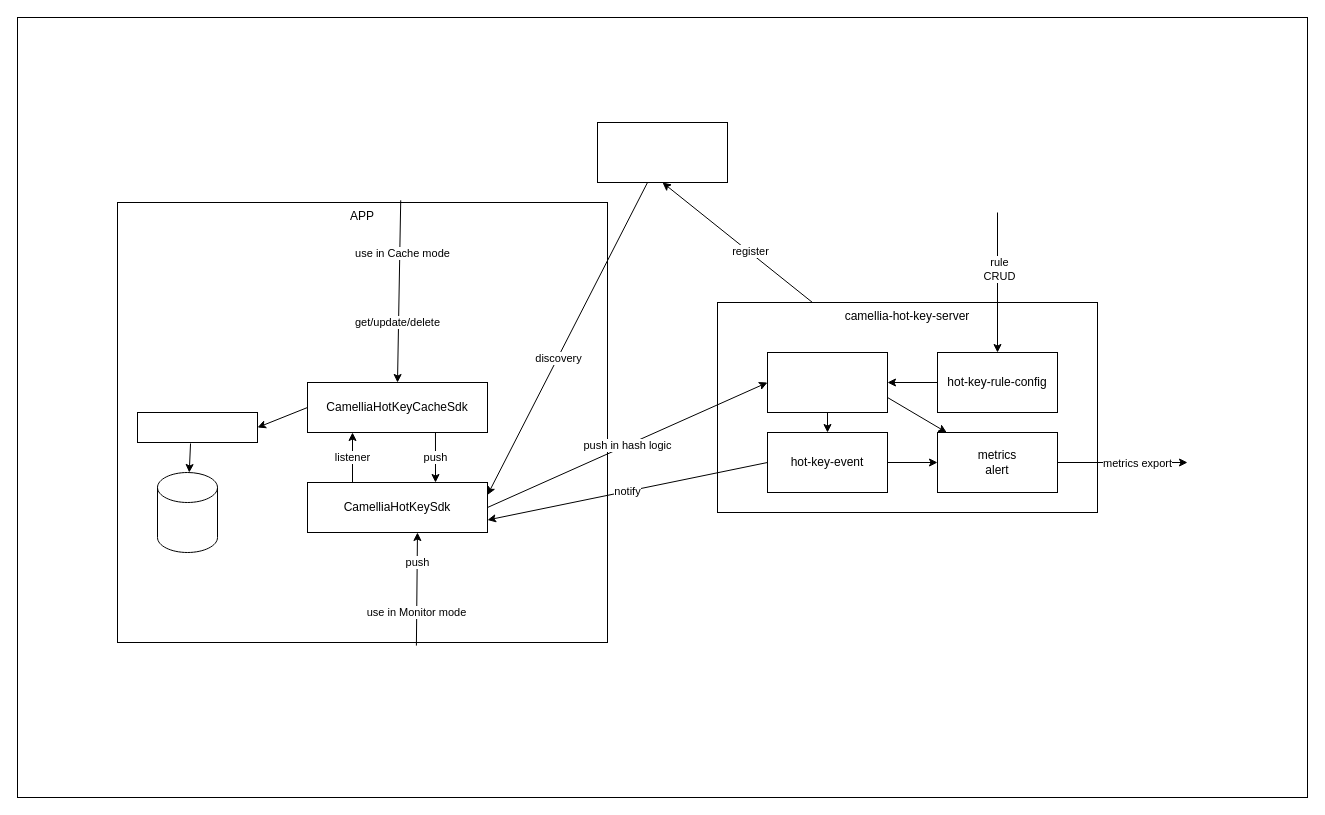
This 1325x815 diagram has some shape labels left out. Each missing label, with the centre of its shape:
"cache-loader" belongs at (197,427).
"DB/redis" belongs at (187,512).
"hot-key-calculator" belongs at (827,382).
"register-center zk/eureka/etcd" belongs at (662,152).
